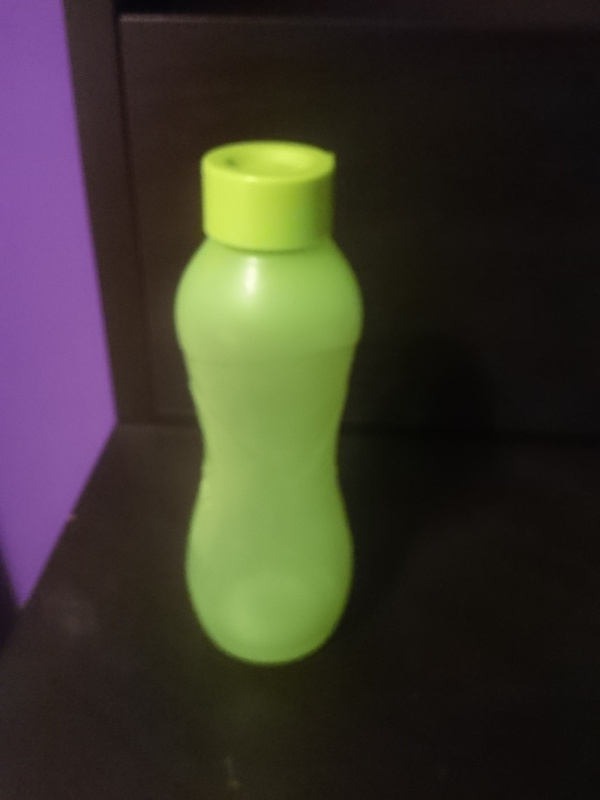my bottle: (173, 142, 363, 664)
